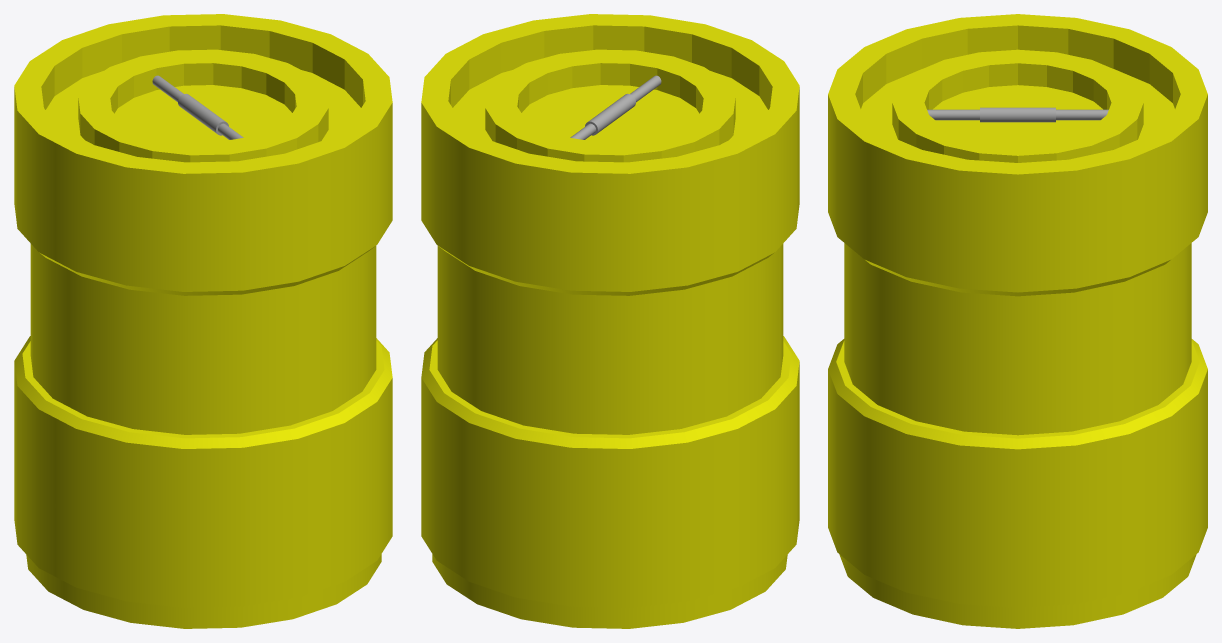
Rendered from Barrel.fbx.
The picture shows the model from 3 angles, left to right: view 1: azimuth 30°, elevation 25°; view 2: azimuth 150°, elevation 25°; view 3: azimuth 270°, elevation 25°; orthographic projection.
Visible parts, largest first — view 1: Barrel, Handle; view 2: Barrel, Handle; view 3: Barrel, Handle.
Part boxes in pixels (bbox=[...]): Barrel: bbox=[14, 14, 392, 628]; Handle: bbox=[152, 75, 243, 139]; Barrel: bbox=[421, 14, 799, 628]; Handle: bbox=[570, 75, 661, 139]; Barrel: bbox=[828, 14, 1207, 628]; Handle: bbox=[927, 107, 1108, 122].
Size of the model in its own units: 3 by 4 by 3.
